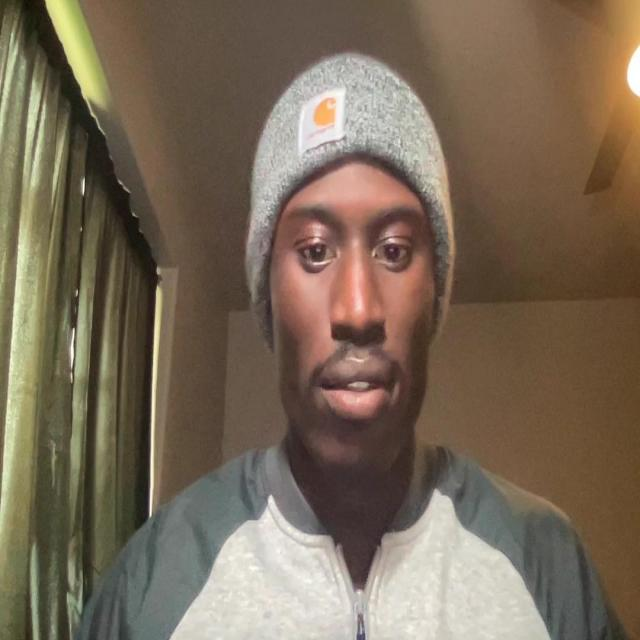face: (266, 141, 441, 495)
